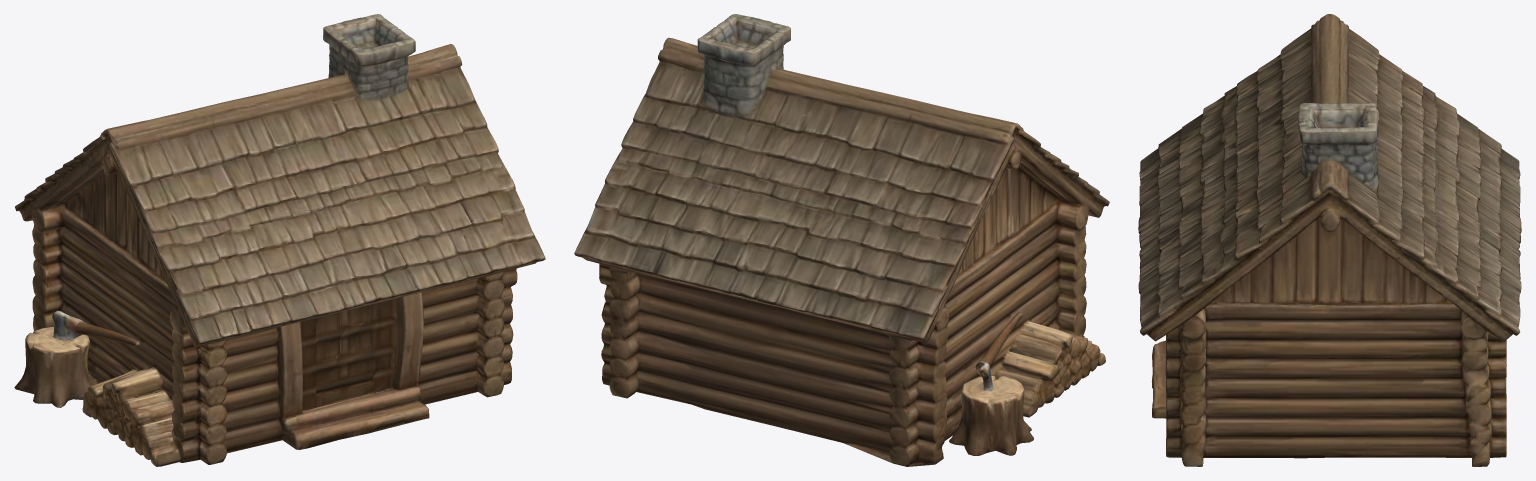
The model's file is lodge.glb.
3 views of the same model, side by side, from view 1: azimuth 30°, elevation 25°; view 2: azimuth 150°, elevation 25°; view 3: azimuth 270°, elevation 25° (orthographic). The views are drawn at different scales.
Parts seen in each view (by area): view 1: Mesh_0; view 2: Mesh_0; view 3: Mesh_0.
Boxes of the visible parts, bbox=[...] form: Mesh_0: bbox=[14, 14, 545, 466]; Mesh_0: bbox=[574, 14, 1109, 466]; Mesh_0: bbox=[1138, 14, 1521, 466].
Bounding box in the file's own units: 1.9 × 1.43 × 1.56.
1 material, 1 textured.
